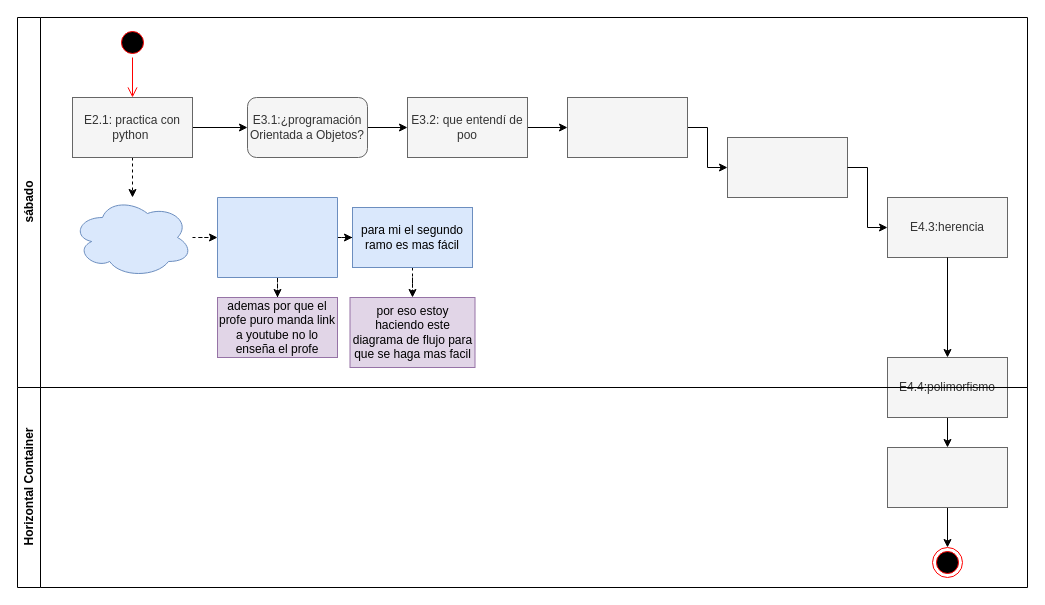
Some shapes in this 1045 by 605 pixel diagram are drawn without their labels. The shapes that lost their labels are listed below. From the top down, each one's centre as x and y in pixels, then its label:
point 627,127: E4.1:practica python orientado a objetos
point 787,167: E4.2:encapsulacion
point 132,237: soy mas teórico pratico
point 277,237: osea primero teoría y luego practica no que sea practica pura
point 947,477: E5.1:practica python poo
